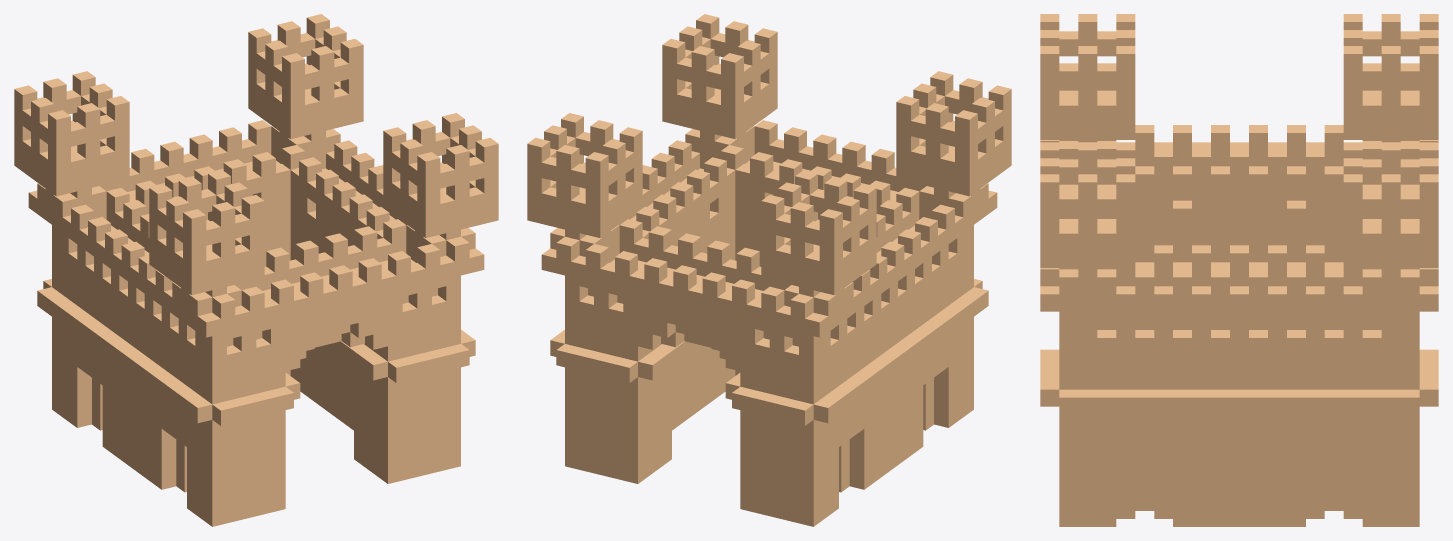
The model's file is castle.glb.
3 renders of one model, left to right at view 1: azimuth 30°, elevation 25°; view 2: azimuth 150°, elevation 25°; view 3: azimuth 270°, elevation 25°, orthographic. The views are drawn at different scales.
Parts seen in each view (by area): view 1: castle.vox; view 2: castle.vox; view 3: castle.vox.
Part boxes in pixels (left/top/right/bottom): castle.vox: left=14, top=14, right=498, bottom=526; castle.vox: left=527, top=14, right=1011, bottom=526; castle.vox: left=1040, top=14, right=1438, bottom=526.
Size of the model in its own units: 2.1 by 2.1 by 2.1.
1 material, 1 textured.
